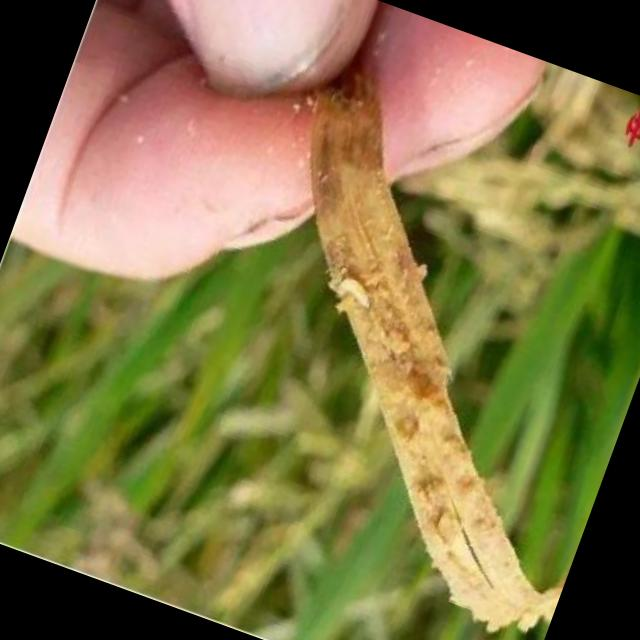whorl-maggot: (326, 256, 383, 326)
